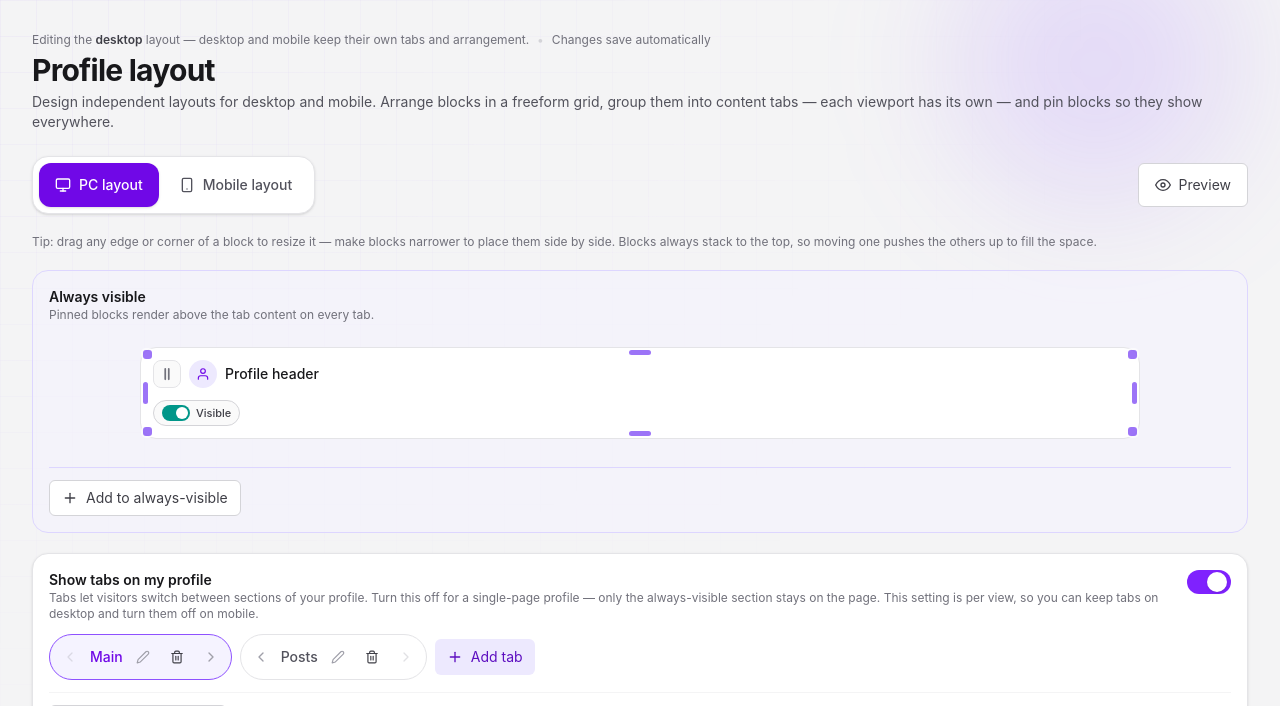
Test: ProfileLayoutPage — the per-viewport tabs switch › flips the switch and the tab chrome on ONE click, in both viewports
Expected: the button "Add tab" is shown, [435, 639, 535, 675]
What coordinates should you click on to do the following:
click the switch named "Show tabs on my profile"
I would click on:
 (1209, 582)
Its box is [1187, 570, 1231, 594].
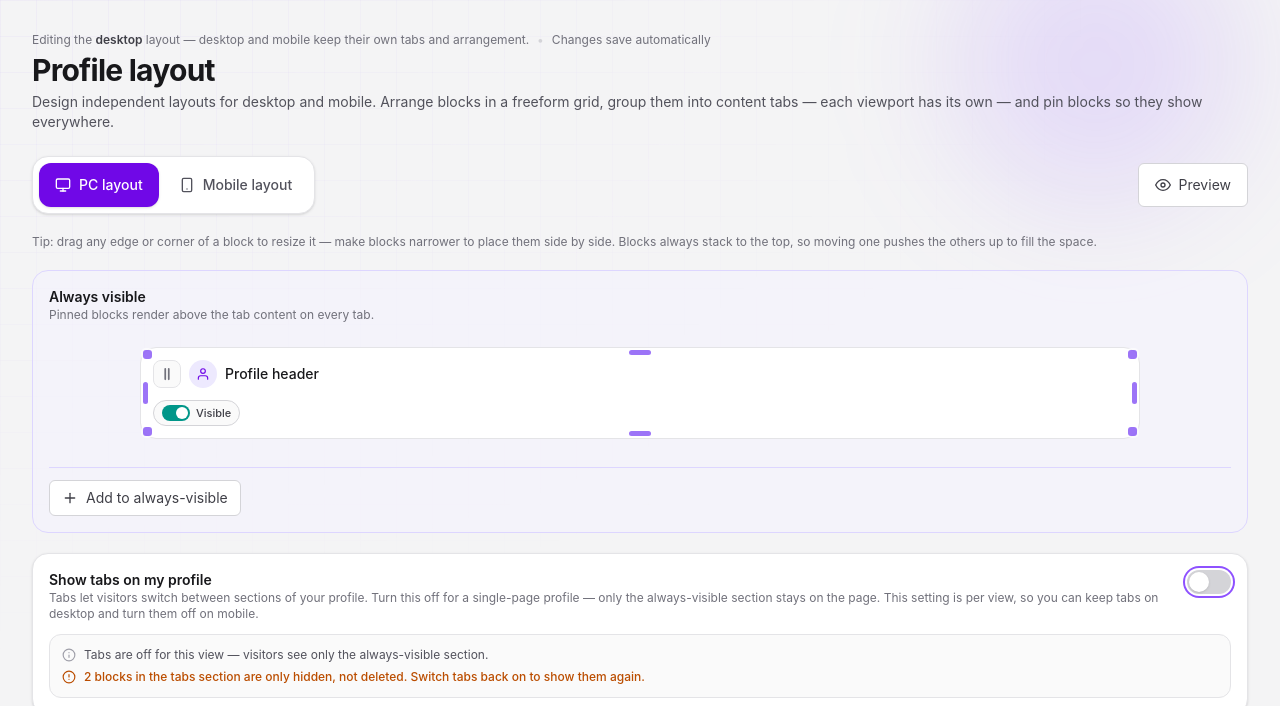
Expected: the switch named "Show tabs on my profile" is not checked, [1187, 570, 1231, 594]
Expected: the button "Add tab" is gone
Expected: the text "Tabs are off for this view" is shown, [84, 647, 488, 662]
What coordinates should you click on to do the following:
click the button "Mobile layout"
I would click on:
 (236, 185)
Its box is [163, 163, 308, 207].
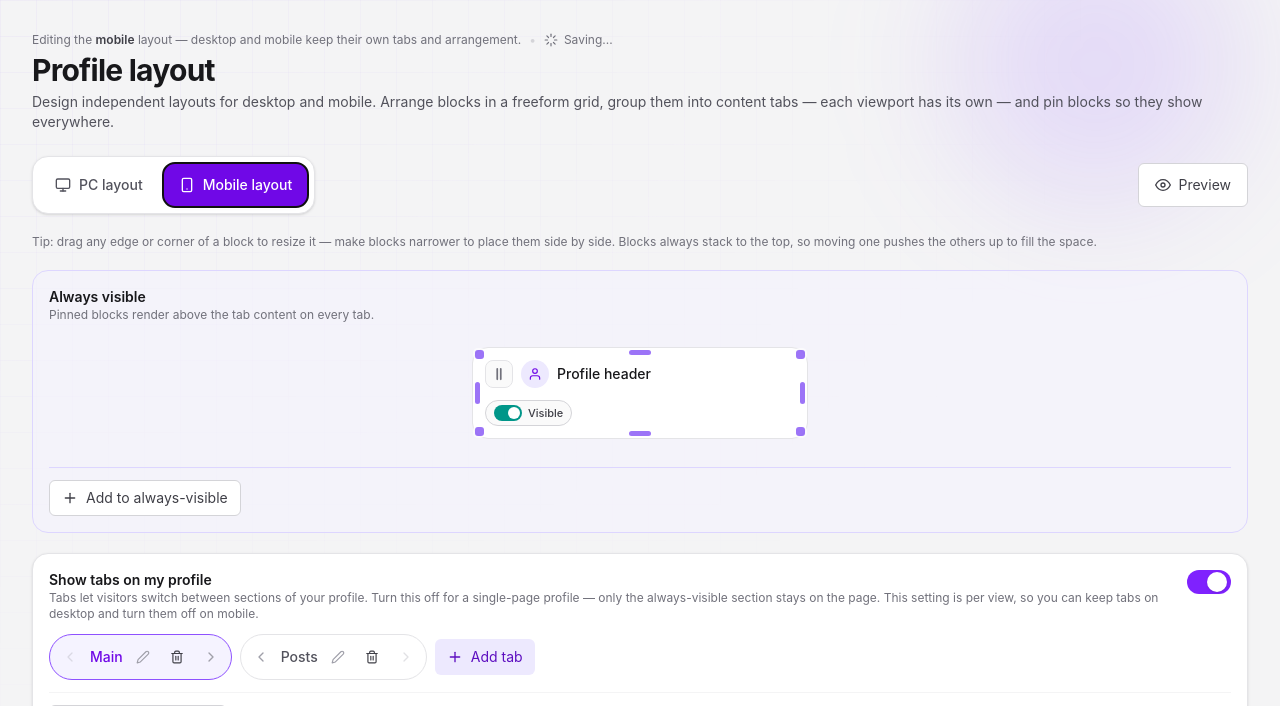
Expected: the button "Add tab" is shown, [435, 639, 535, 675]
What coordinates should you click on to do the following:
click the switch named "Show tabs on my profile"
I would click on:
 (1209, 582)
Its box is [1187, 570, 1231, 594].
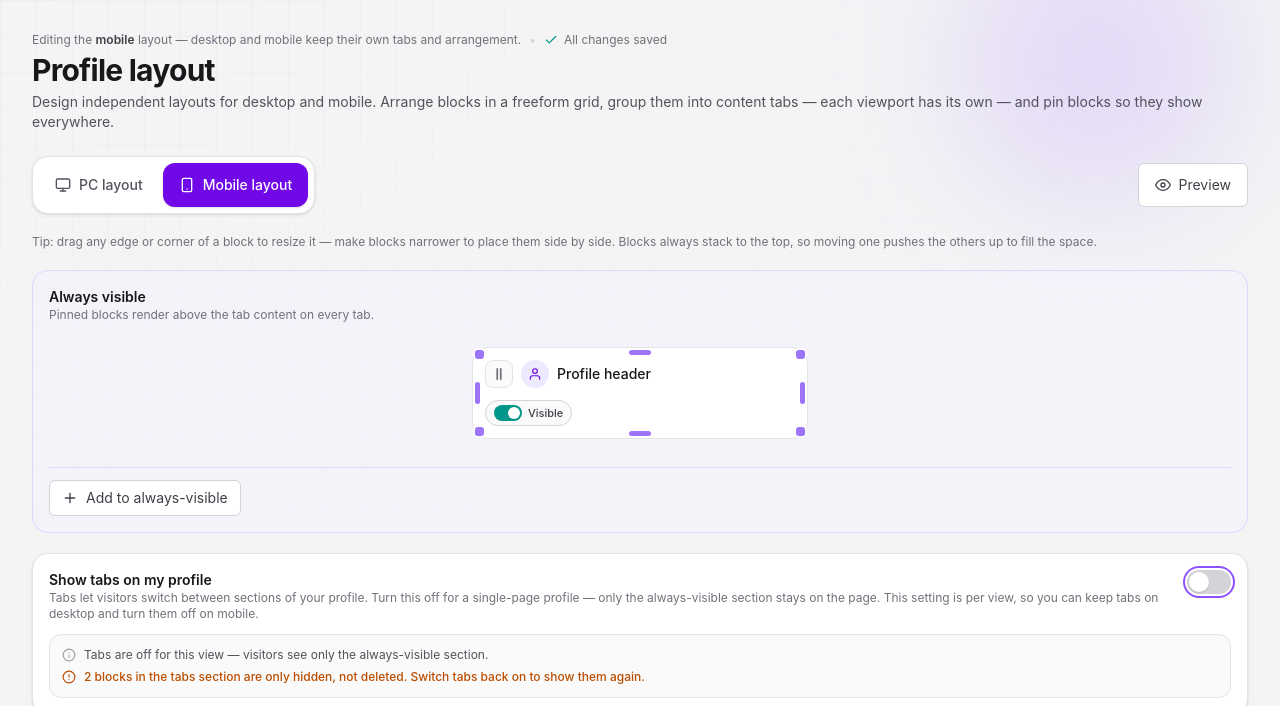
Expected: the switch named "Show tabs on my profile" is not checked, [1187, 570, 1231, 594]
Expected: the button "Add tab" is gone
